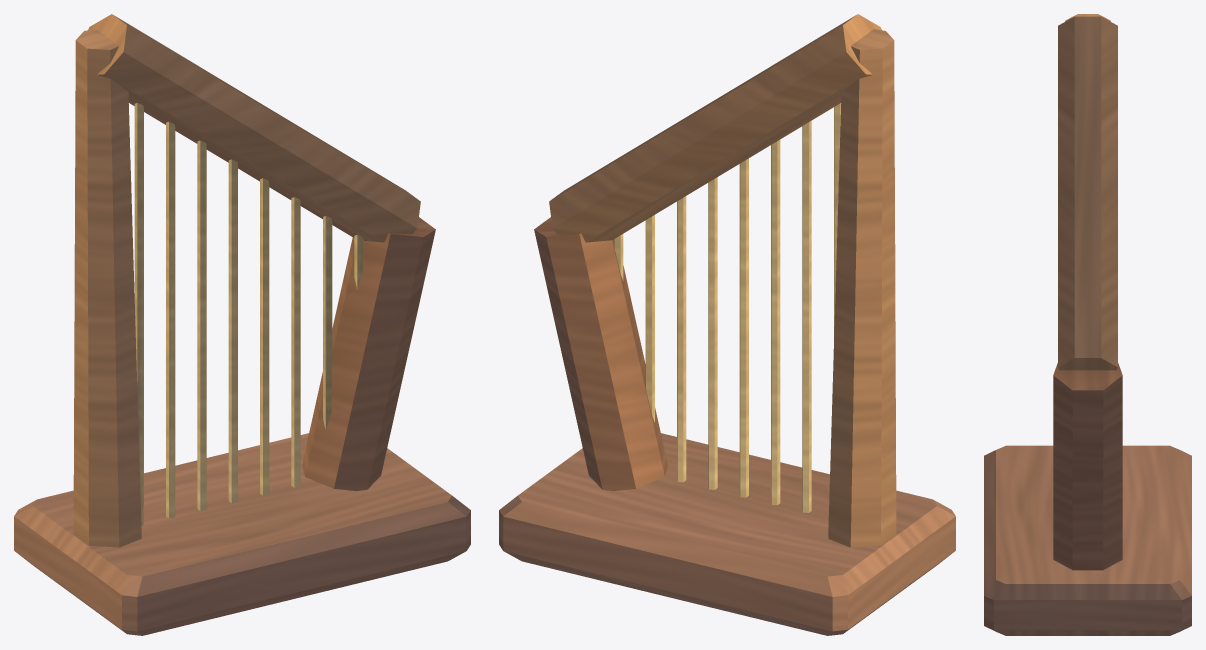
File: furniture_harp.glb
3 renders of one model, left to right at view 1: azimuth 30°, elevation 25°; view 2: azimuth 150°, elevation 25°; view 3: azimuth 270°, elevation 25°, orthographic. The views are drawn at different scales.
Parts seen in each view (by area): view 1: Walnussharfe; view 2: Walnussharfe; view 3: Walnussharfe.
Boxes of the visible parts, bbox=[...] form: Walnussharfe: bbox=[14, 14, 470, 635]; Walnussharfe: bbox=[499, 14, 955, 635]; Walnussharfe: bbox=[984, 14, 1191, 635].
Size of the model in its own units: 1.08 by 1.63 by 0.618.
1 material, 1 textured.
